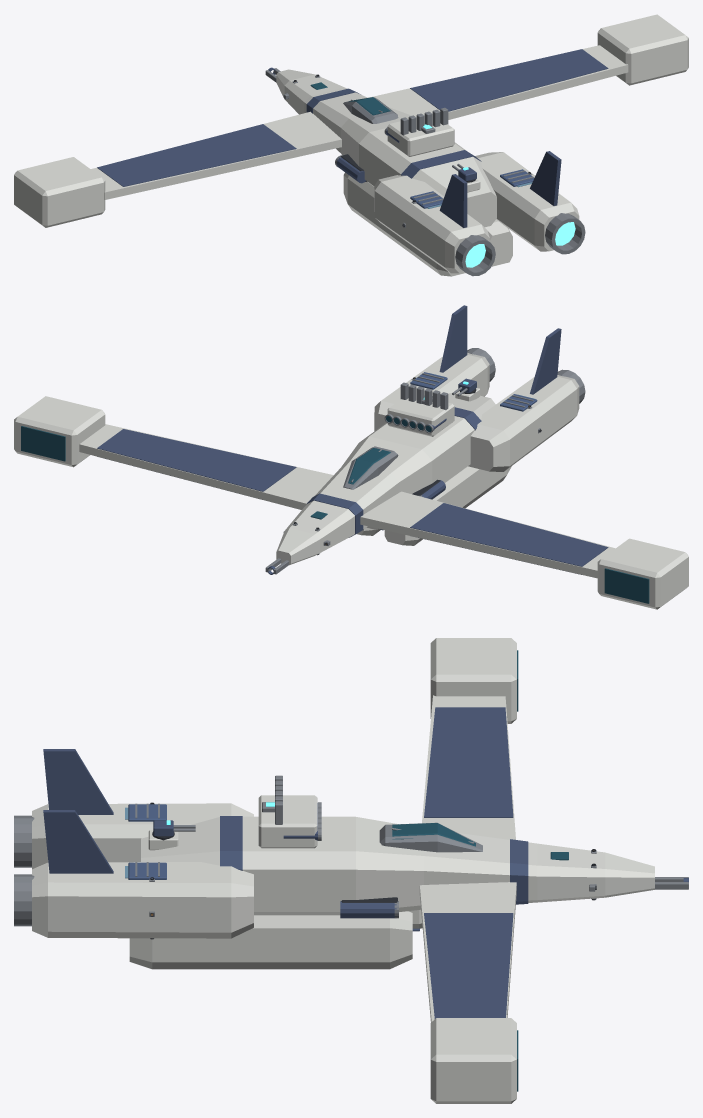
File: earth_recon_t5.glb
The picture shows the model from 3 angles, top to bottom: view 1: azimuth 30°, elevation 25°; view 2: azimuth 150°, elevation 25°; view 3: azimuth 270°, elevation 25°; orthographic projection. The views are drawn at different scales.
Parts seen in each view (by area): view 1: FleetHull; view 2: FleetHull; view 3: FleetHull.
Boxes of the visible parts, x1=… form: FleetHull: x1=14, y1=14, x2=688, y2=276; FleetHull: x1=14, y1=305, x2=688, y2=609; FleetHull: x1=14, y1=638, x2=688, y2=1103.
Size of the model in its own units: 44 by 8.2 by 29.8.
